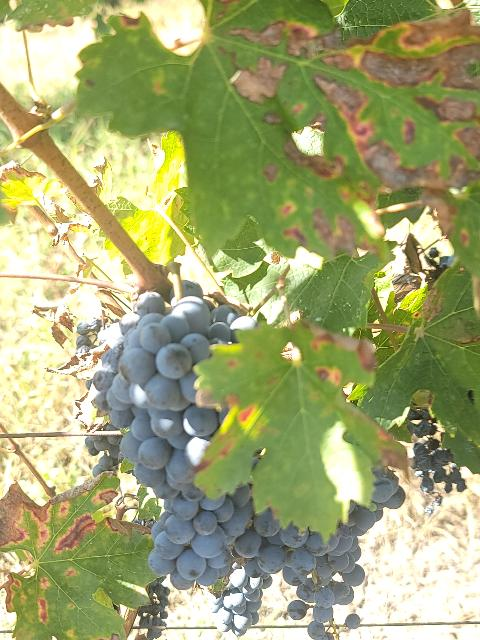grapes: (92, 291, 220, 499)
